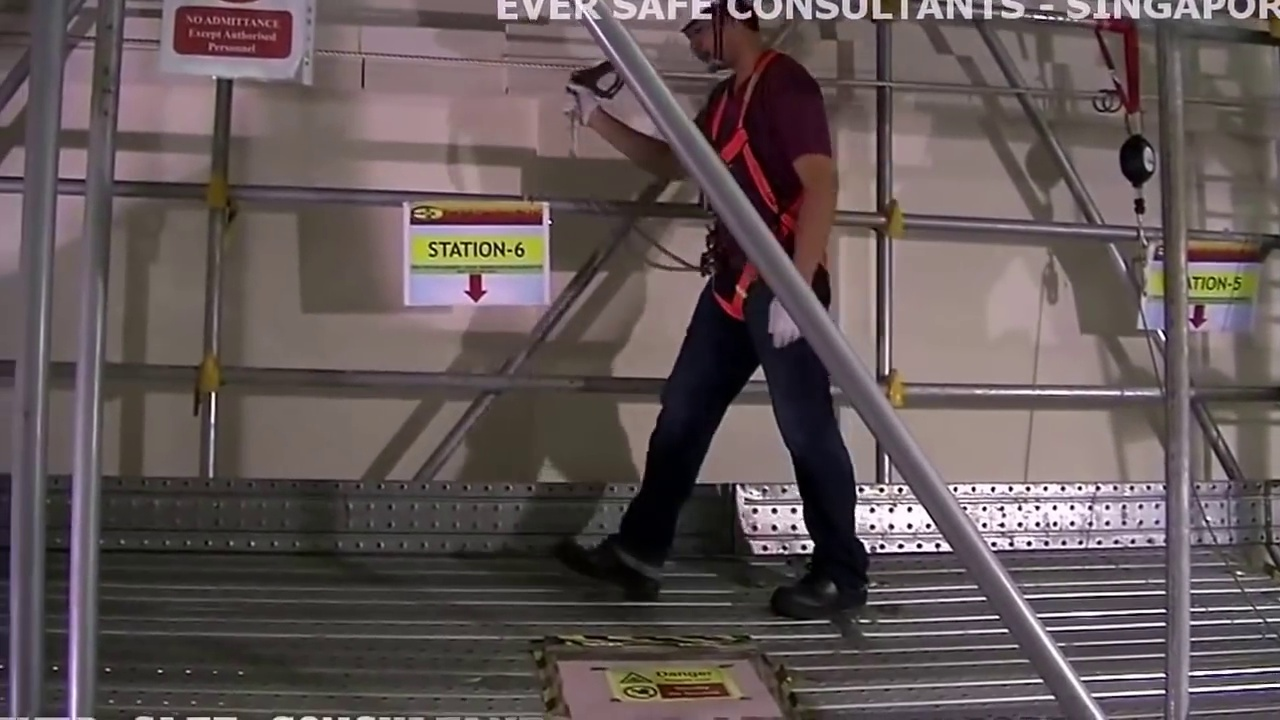harness: (706, 83, 775, 314)
hook: (567, 50, 624, 98)
leash: (588, 186, 689, 303)
